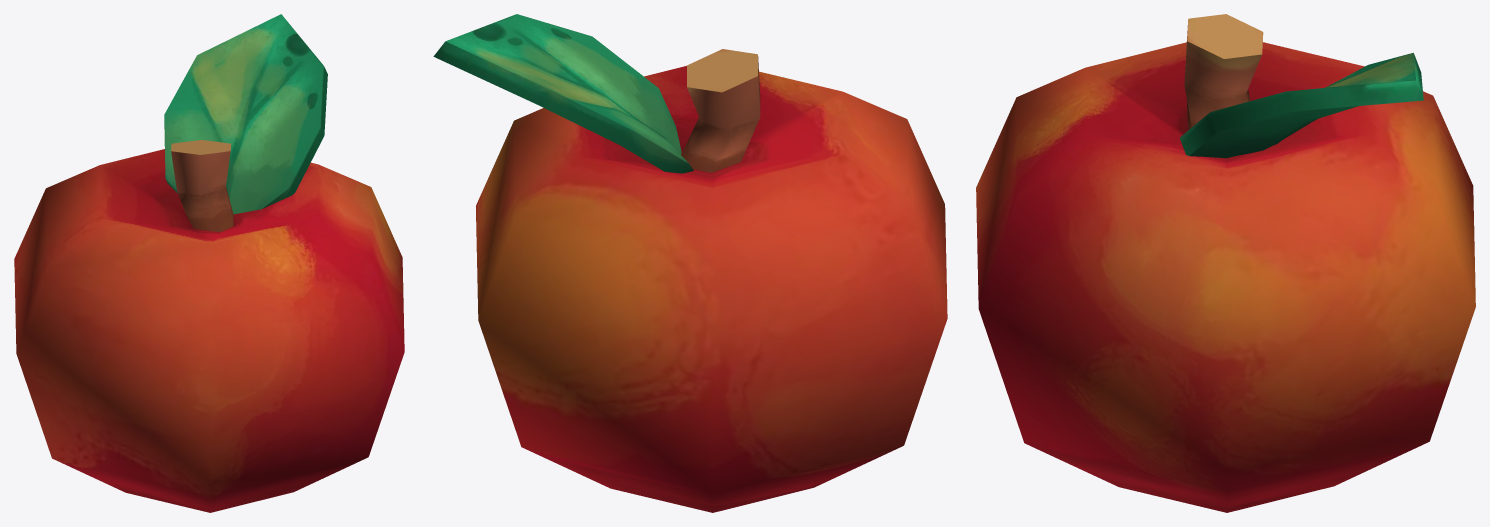
3 views of the same model, side by side, from view 1: azimuth 30°, elevation 25°; view 2: azimuth 150°, elevation 25°; view 3: azimuth 270°, elevation 25° (orthographic). The views are drawn at different scales.
Parts seen in each view (by area): view 1: Apol.001; view 2: Apol.001; view 3: Apol.001.
Part boxes in pixels (x1=…): Apol.001: x1=14, y1=14, x2=404, y2=512; Apol.001: x1=433, y1=14, x2=947, y2=512; Apol.001: x1=976, y1=14, x2=1475, y2=512.
Bounding box in the file's own units: 2.45 × 2.22 × 2.13.
Materials: 1 (1 with a texture image).
